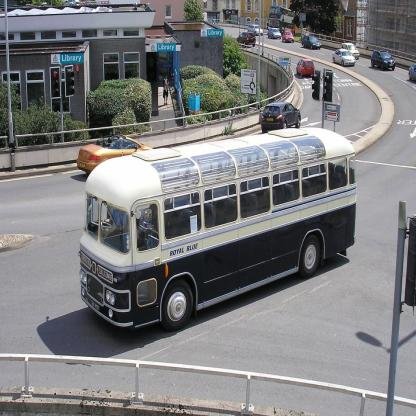Car: (78, 135, 154, 175), (263, 102, 301, 130), (373, 49, 394, 72), (297, 60, 315, 79), (334, 51, 356, 65), (343, 44, 359, 60), (302, 35, 320, 49), (239, 36, 256, 49), (284, 31, 295, 45), (251, 26, 264, 37), (268, 29, 281, 40), (411, 66, 416, 87)
